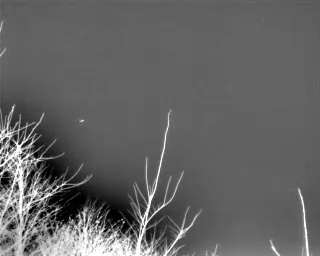BIRD: (78, 117, 86, 125)
